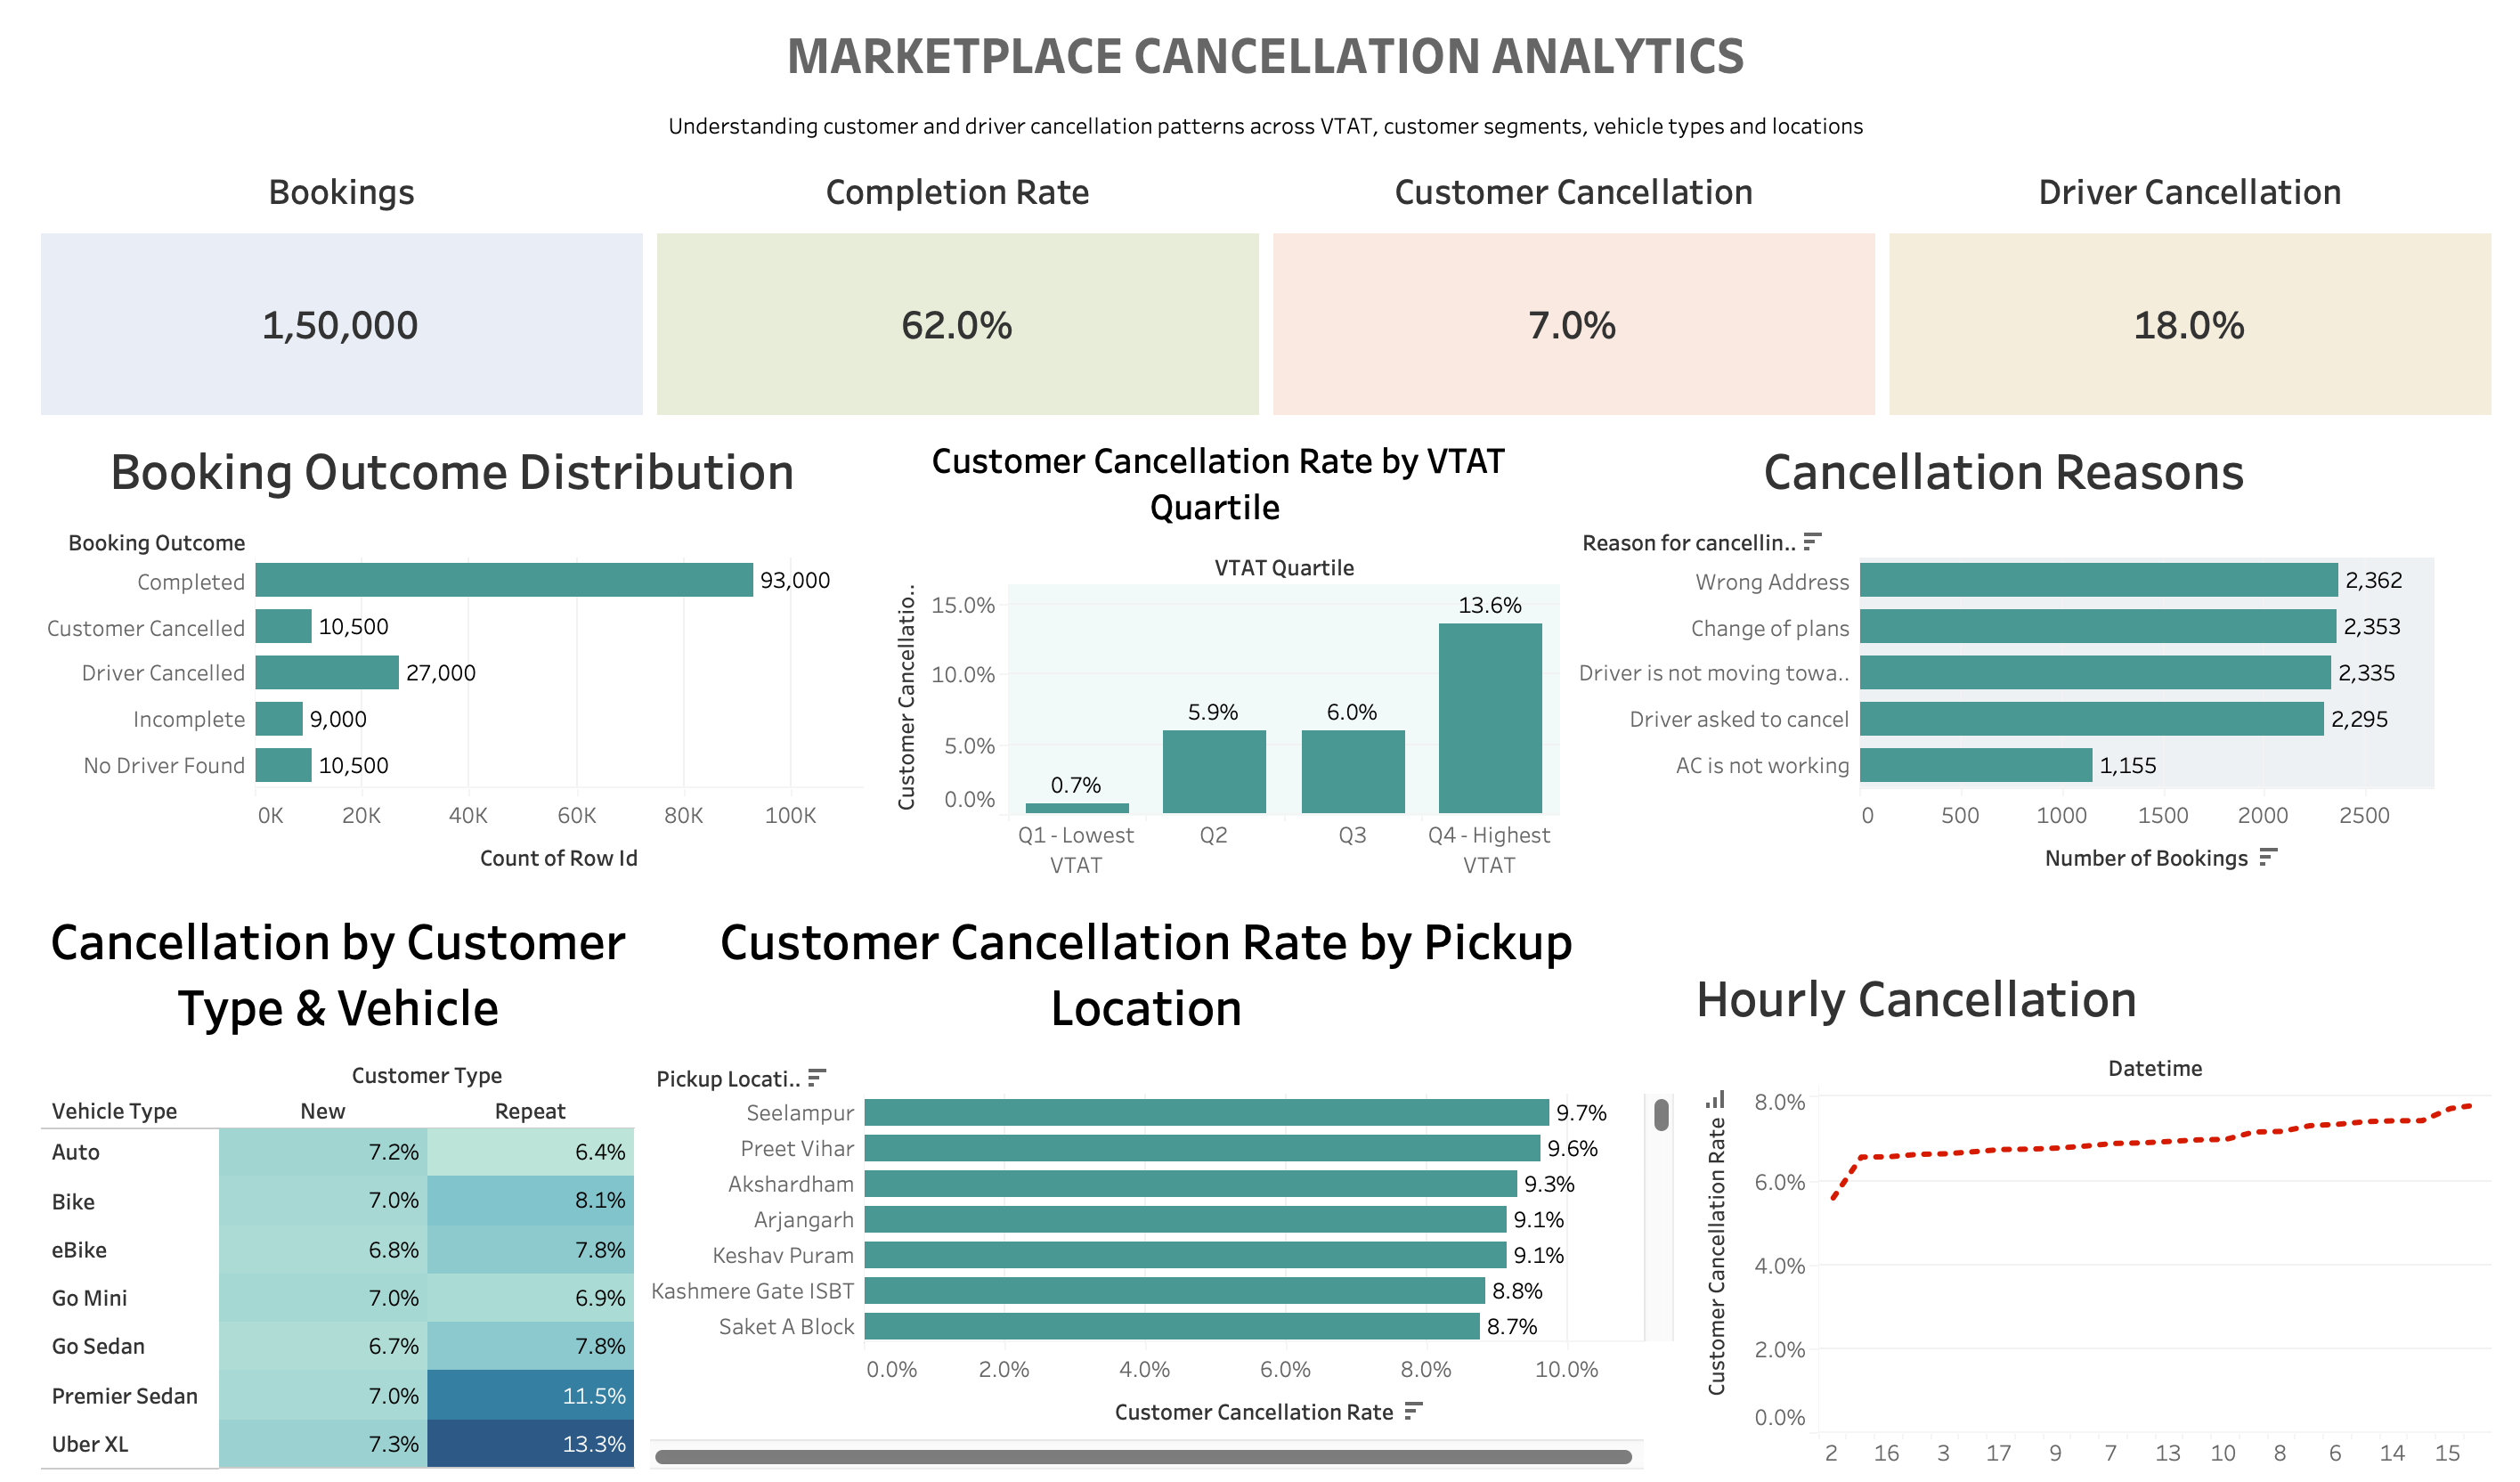

This screenshot's page, from the dashboard's own definition file:
{"tool":"tableau","page":{"name":"Executive Dashboard","canvas":[1400,900],"ordinal":0},"visuals":[{"type":"text","box":[8,8,1384,47]},{"type":"text","box":[8,55,1384,32]},{"type":"worksheet","title":"01_Total_Bookings","mark":"Automatic","box":[8,87,346,151]},{"type":"worksheet","title":"02_Completion_Rate","mark":"Automatic","box":[354,87,346,151]},{"type":"worksheet","title":"03_Customer_Cancellation","mark":"Automatic","box":[700,87,346,151]},{"type":"worksheet","title":"04_Driver_Cancellation","mark":"Automatic","box":[1046,87,346,151]},{"type":"worksheet","title":"05_Booking_Outcome","mark":"Bar","rows":["Calculation_1975392517840901"],"cols":["row_id"],"box":[8,238,470,264]},{"type":"worksheet","title":"07_VTAT_Quartiles","mark":"Bar","rows":["Calculation_1975392512753665"],"cols":["Calculation_1975392525541384"],"box":[478,238,391,264]},{"type":"worksheet","title":"08_Cancellation_Reasons","mark":"Bar","rows":["Reason_for_cancelling_by_Customer"],"cols":["row_id"],"box":[869,238,491,264]},{"type":"blank","box":[1360,238,32,264]},{"type":"worksheet","title":"11_Cancellation_Segments","mark":"Square","rows":["Vehicle_Type"],"cols":["customer_type"],"box":[8,502,342,328]},{"type":"worksheet","title":"10_Location_Cancellation","mark":"Automatic","rows":["Pickup_Location"],"cols":["Calculation_1975392512753665"],"box":[350,502,583,328]},{"type":"blank","box":[933,502,459,32]},{"type":"worksheet","title":"09_Hourly_Cancellation","mark":"Line","rows":["Calculation_1975392512753665"],"cols":["datetime"],"box":[933,534,459,296]}]}

Visuals, with their boxes on the page's 1400x900 design canvas (x1, y1, x2, y2). These are canvas units, not pixel positions in the 2520x1482 screenshot, which may show the page scaled, cropped or inside an application window:
text: (8,8,1392,55)
text: (8,55,1392,87)
"01_Total_Bookings" worksheet: (8,87,354,238)
"02_Completion_Rate" worksheet: (354,87,700,238)
"03_Customer_Cancellation" worksheet: (700,87,1046,238)
"04_Driver_Cancellation" worksheet: (1046,87,1392,238)
"05_Booking_Outcome" worksheet (Bar marks): (8,238,478,502)
"07_VTAT_Quartiles" worksheet (Bar marks): (478,238,869,502)
"08_Cancellation_Reasons" worksheet (Bar marks): (869,238,1360,502)
blank: (1360,238,1392,502)
"11_Cancellation_Segments" worksheet (Square marks): (8,502,350,830)
"10_Location_Cancellation" worksheet: (350,502,933,830)
blank: (933,502,1392,534)
"09_Hourly_Cancellation" worksheet (Line marks): (933,534,1392,830)
